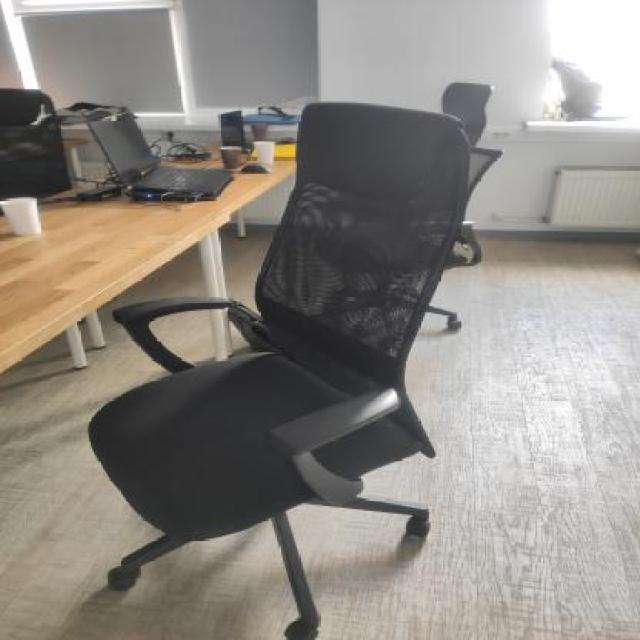chair: (77, 92, 483, 640)
